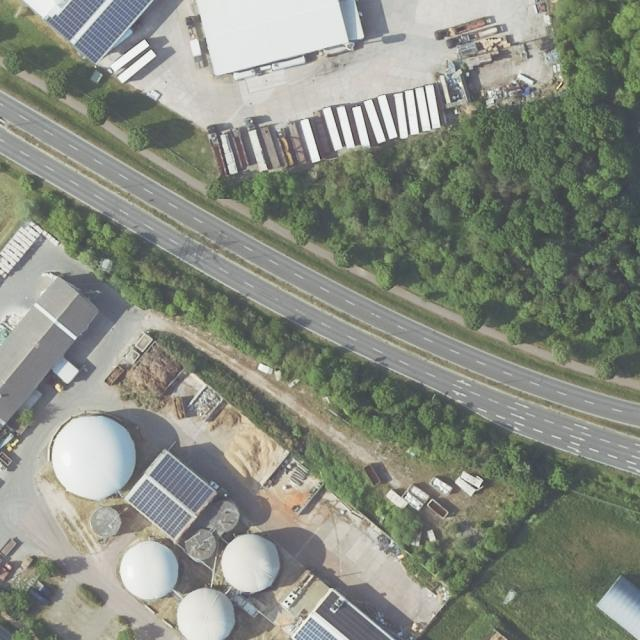PV: (74, 0, 151, 63), (128, 478, 193, 539), (149, 453, 213, 513), (45, 0, 105, 41), (294, 617, 338, 640)
